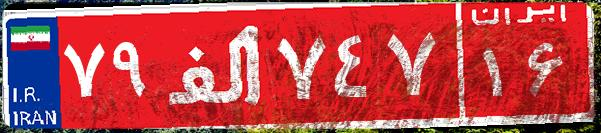1: (475, 38, 525, 113)
4: (330, 28, 385, 110)
6: (525, 38, 570, 115)
7: (385, 28, 445, 110), (273, 28, 330, 110), (57, 26, 110, 107)
9: (110, 28, 158, 105)
الف: (158, 15, 273, 115)
